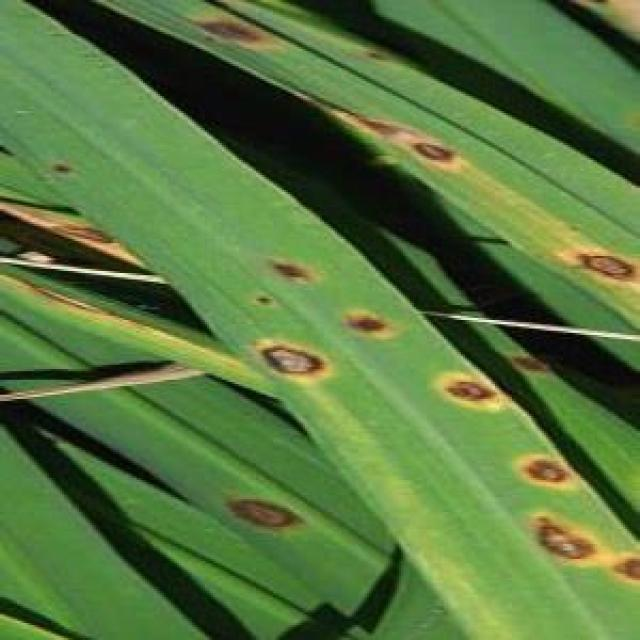Rice: (526, 500, 597, 575), (333, 299, 421, 351), (428, 363, 506, 421), (221, 491, 308, 542), (188, 8, 274, 59), (258, 330, 334, 382), (567, 239, 640, 290), (504, 448, 577, 496), (402, 128, 468, 177), (594, 535, 640, 597), (262, 255, 327, 293)
